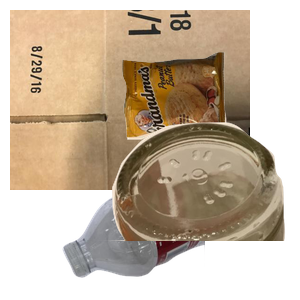cardboard: (10, 10, 250, 190)
glass: (89, 120, 300, 300)
plastic: (60, 190, 300, 280)
trash: (120, 50, 300, 182)
